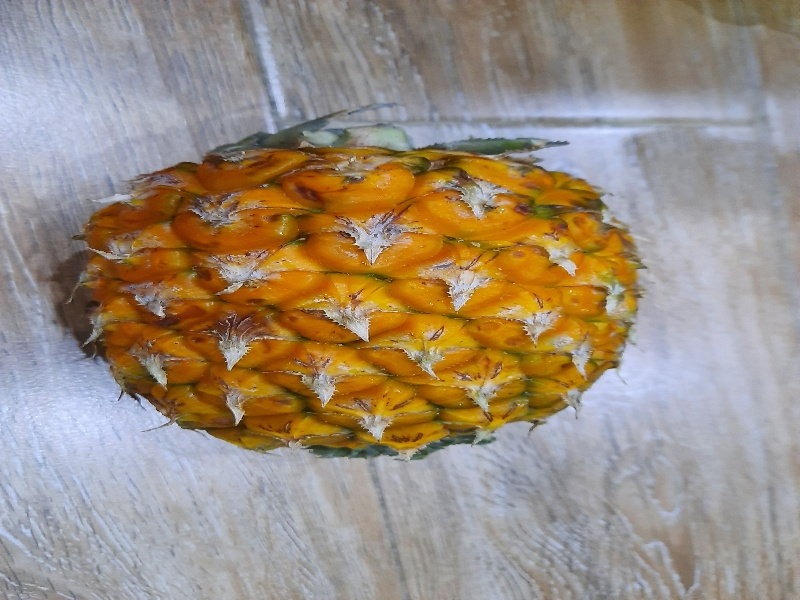fruit: (76, 117, 654, 455)
